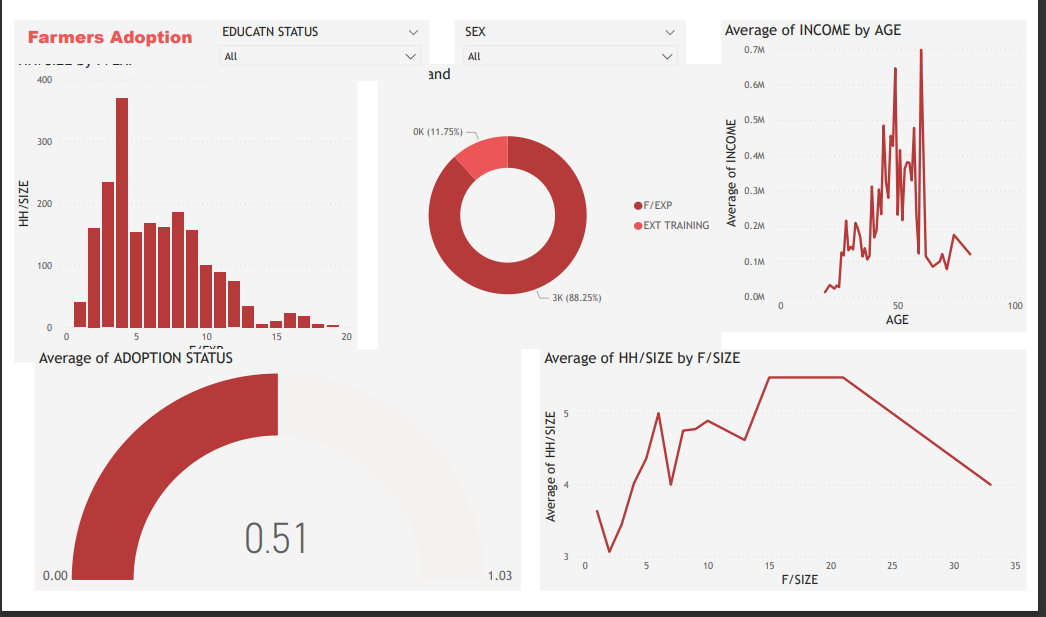

The dashboard page shown, as its layout file describes it:
{"tool":"powerbi","page":{"name":"Page 2","canvas":[1280,720],"ordinal":1},"visuals":[{"type":"lineClusteredColumnComboChart","fields":{"Category":["Farmers Adoption Data Plateau State - Sheet1 (1).F/EXP"],"Y":["Sum(Farmers Adoption Data Plateau State - Sheet1 (1).HH/SIZE)"]},"box":[0,38.6,433.4,393.1],"z":0},{"type":"lineChart","fields":{"Category":["Farmers Adoption Data Plateau State - Sheet1 (1).AGE"],"Y":["Avg(Farmers Adoption Data Plateau State - Sheet1 (1).INCOME)"]},"box":[893.6,0,386.4,393.1],"z":2000},{"type":"lineChart","fields":{"Category":["Farmers Adoption Data Plateau State - Sheet1 (1).F/SIZE"],"Y":["Avg(Farmers Adoption Data Plateau State - Sheet1 (1).HH/SIZE)"]},"box":[665.2,414.9,614.8,305.7],"z":3000},{"type":"donutChart","fields":{"Y":["Sum(Farmers Adoption Data Plateau State - Sheet1 (1).F/EXP)","Sum(Farmers Adoption Data Plateau State - Sheet1 (1).EXT TRAINING)"]},"box":[460.3,55.4,433.4,359.5],"z":4000},{"type":"slicer","fields":{"Values":["Farmers Adoption Data Plateau State - Sheet1 (1).SEX"]},"box":[557.7,0,290.6,75.6],"z":5000},{"type":"slicer","fields":{"Values":["Farmers Adoption Data Plateau State - Sheet1 (1).EDUCATN STATUS"]},"box":[250.3,0,273.8,75.6],"z":6000},{"type":"textbox","box":[0,0,250.3,55.4],"z":7000},{"type":"gauge","fields":{"Y":["Avg(Farmers Adoption Data Plateau State - Sheet1 (1).ADOPTION STATUS)"]},"box":[26.9,414.9,613.1,305.7],"z":7001}]}

Visuals, with their boxes on the page's 1280x720 design canvas (x1, y1, x2, y2). These are canvas units, not pixel positions in the 1046x617 screenshot, which may show the page scaled, cropped or inside an application window:
lineClusteredColumnComboChart - Farmers Adoption Data Plateau State - Sheet1 (1).F/EXP x Sum(Farmers Adoption Data Plateau State - Sheet1 (1).HH/SIZE): 0, 39, 433, 432
lineChart - Farmers Adoption Data Plateau State - Sheet1 (1).AGE x Avg(Farmers Adoption Data Plateau State - Sheet1 (1).INCOME): 894, 0, 1280, 393
lineChart - Farmers Adoption Data Plateau State - Sheet1 (1).F/SIZE x Avg(Farmers Adoption Data Plateau State - Sheet1 (1).HH/SIZE): 665, 415, 1280, 721
donutChart - Sum(Farmers Adoption Data Plateau State - Sheet1 (1).F/EXP) x Sum(Farmers Adoption Data Plateau State - Sheet1 (1).EXT TRAINING): 460, 55, 894, 415
slicer - Farmers Adoption Data Plateau State - Sheet1 (1).SEX: 558, 0, 848, 76
slicer - Farmers Adoption Data Plateau State - Sheet1 (1).EDUCATN STATUS: 250, 0, 524, 76
textbox: 0, 0, 250, 55
gauge - Avg(Farmers Adoption Data Plateau State - Sheet1 (1).ADOPTION STATUS): 27, 415, 640, 721
